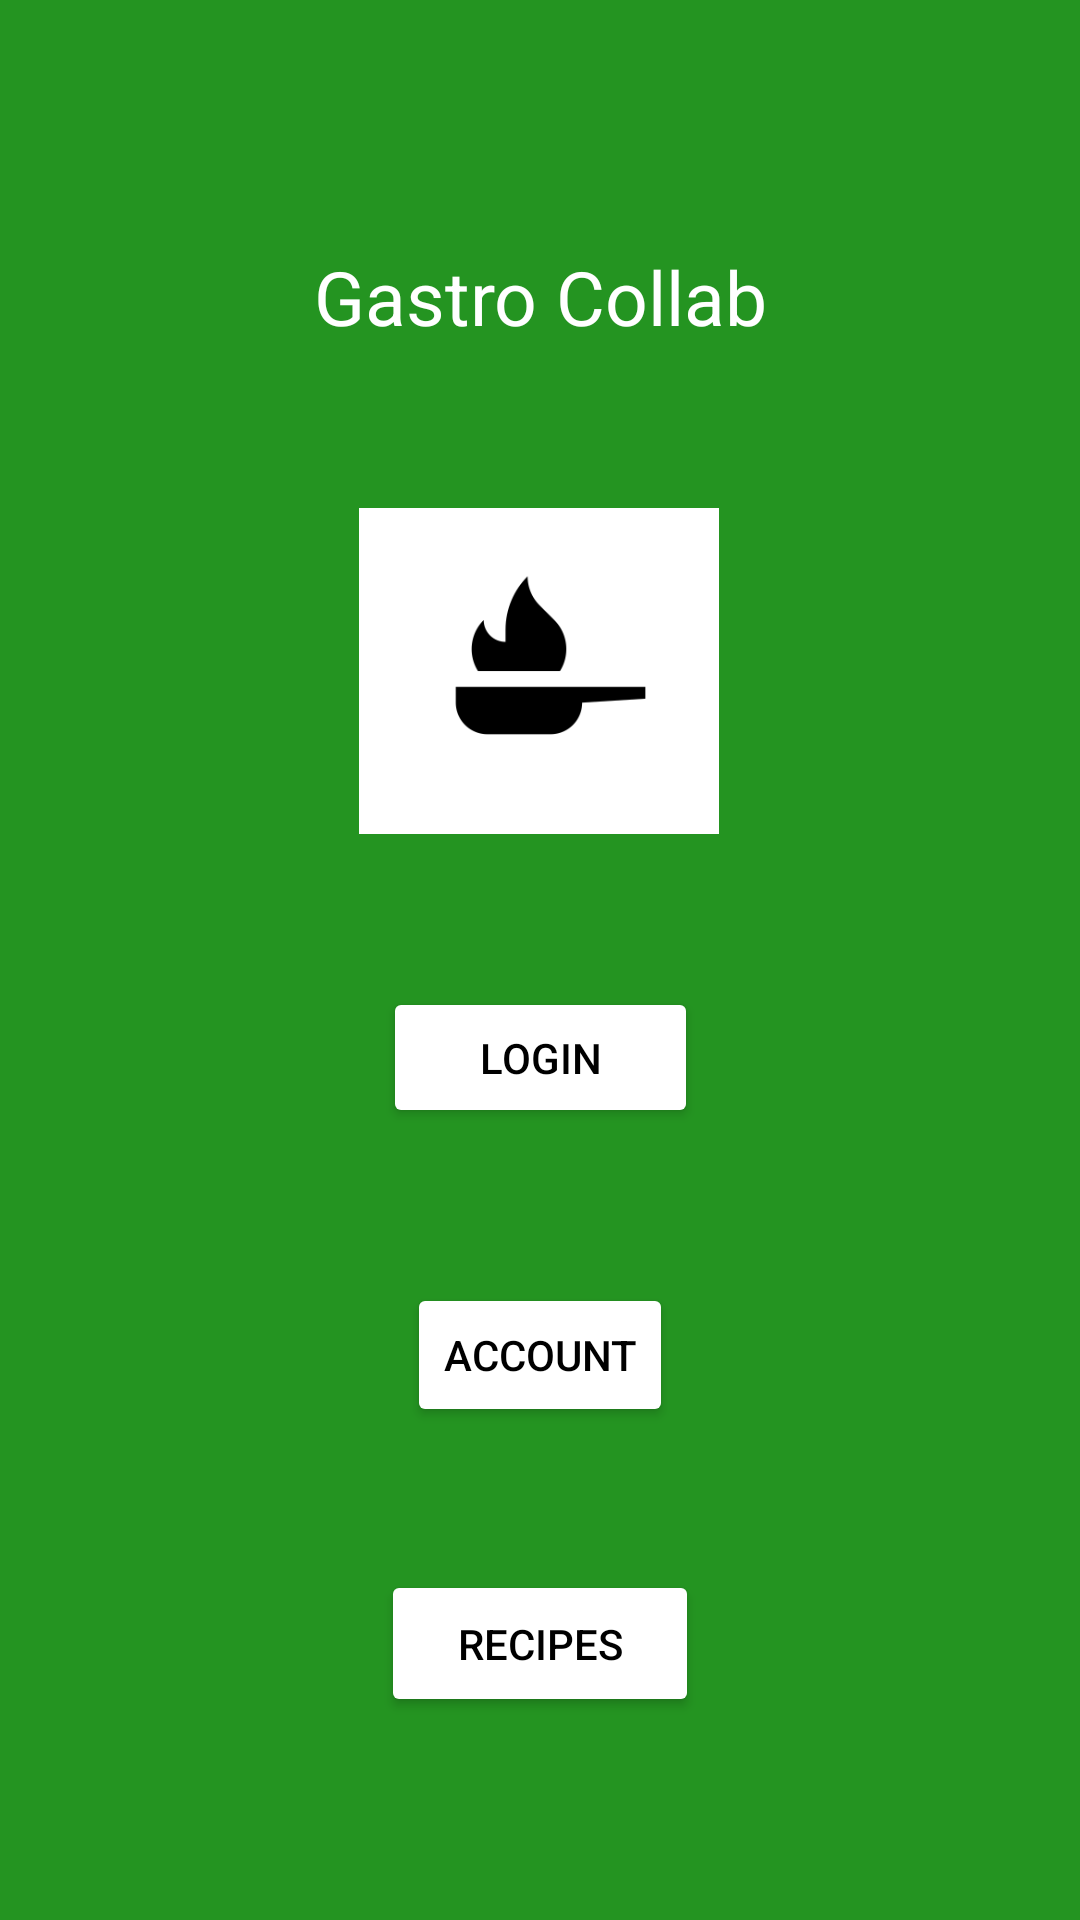

Icon click points for this 1080 × 1920 phone screenshot, format point (x, y):
pan: point (539, 671)
